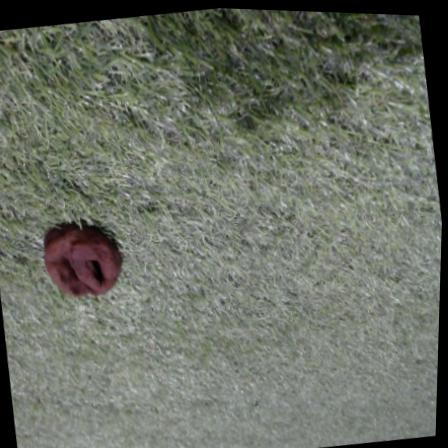dog-poop: (33, 211, 132, 312)
